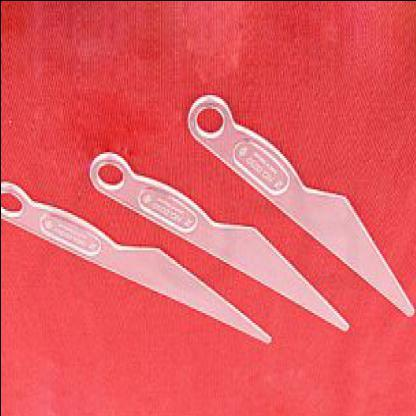Others: (1, 93, 415, 346)
